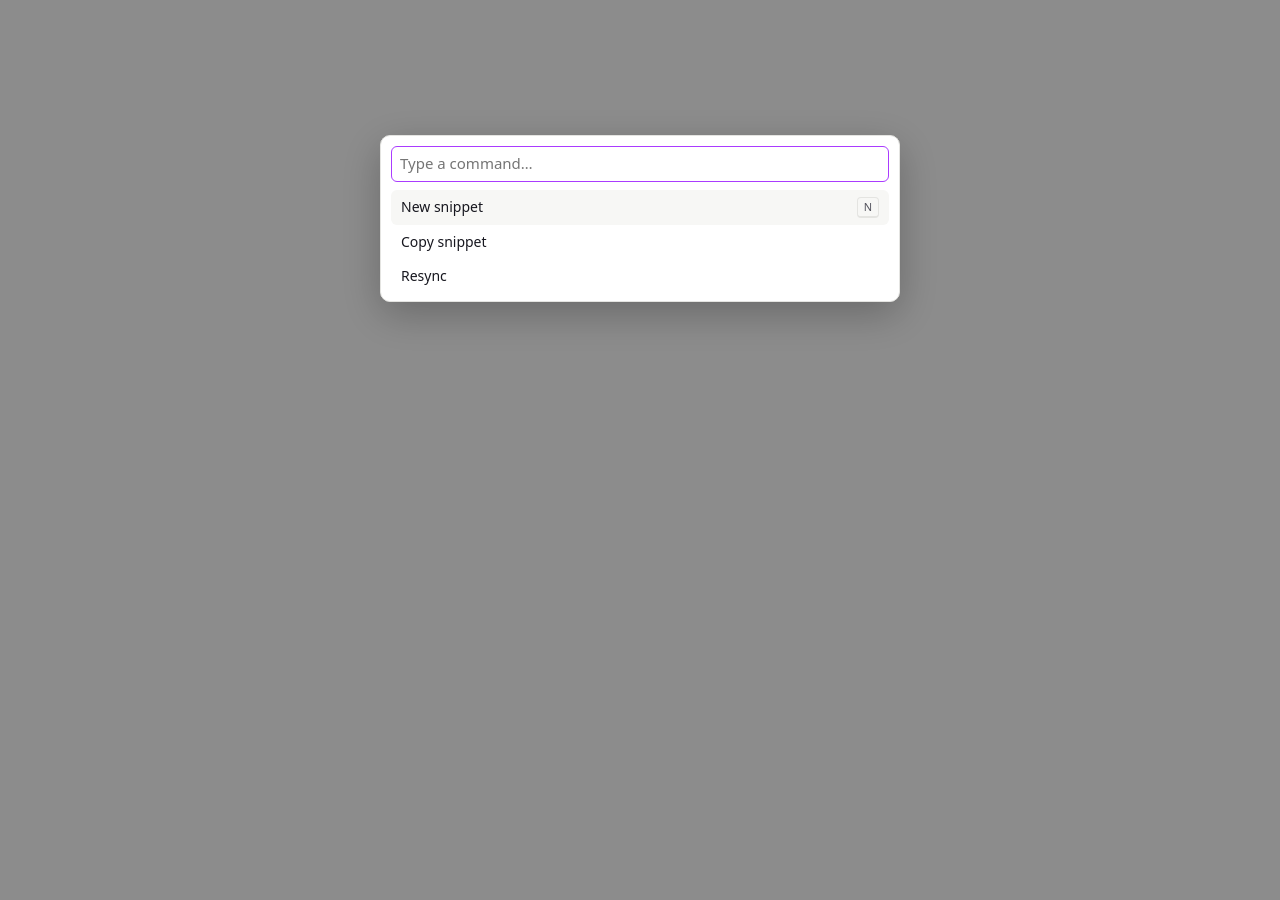
Test: CommandPalette › says so when nothing matches
Type "zzz" into the dropdown labelled "command" at (640, 164), box x1=391 y1=146 x2=889 y2=182
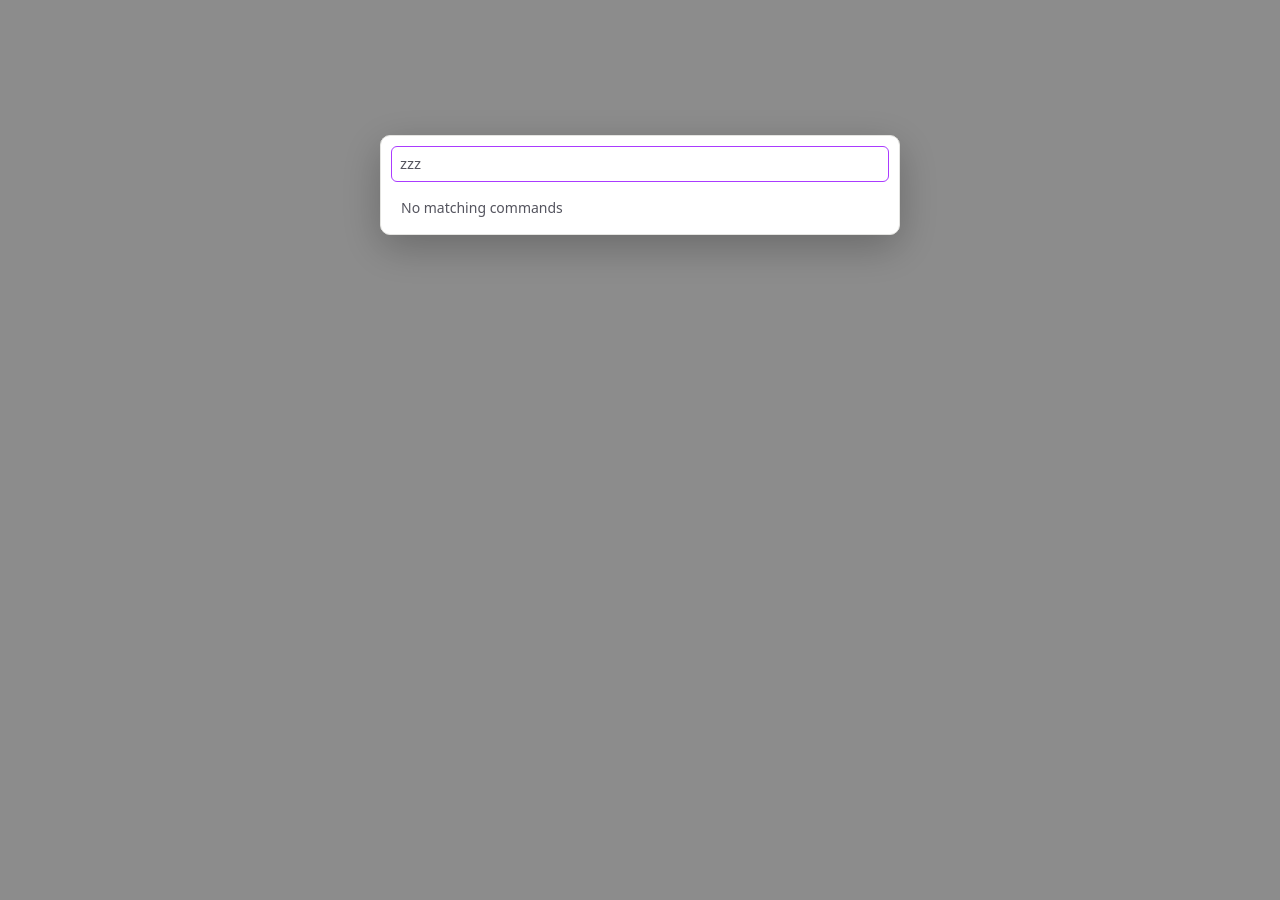
Check: no options are shown
Check: the text "No matching commands" is shown, box x1=401 y1=198 x2=563 y2=217
